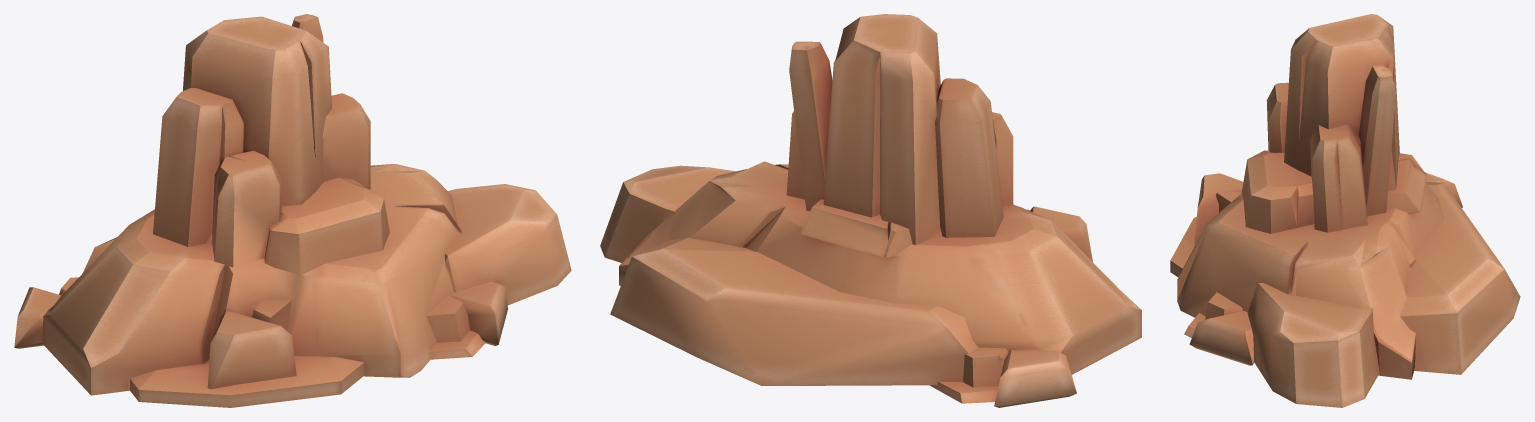
Rendered from desert_rock_05.glb.
3 renders of one model, left to right at view 1: azimuth 30°, elevation 25°; view 2: azimuth 150°, elevation 25°; view 3: azimuth 270°, elevation 25°, orthographic. The views are drawn at different scales.
Visible parts, largest first — view 1: Rock_5_Rock_5_0; view 2: Rock_5_Rock_5_0; view 3: Rock_5_Rock_5_0.
Part boxes in pixels (x1,y1,x2,y2): Rock_5_Rock_5_0: [14, 14, 571, 407]; Rock_5_Rock_5_0: [600, 14, 1141, 407]; Rock_5_Rock_5_0: [1170, 14, 1520, 407].
Size of the model in its own units: 4.57 by 2.6 by 3.1.
1 material, 1 textured.
